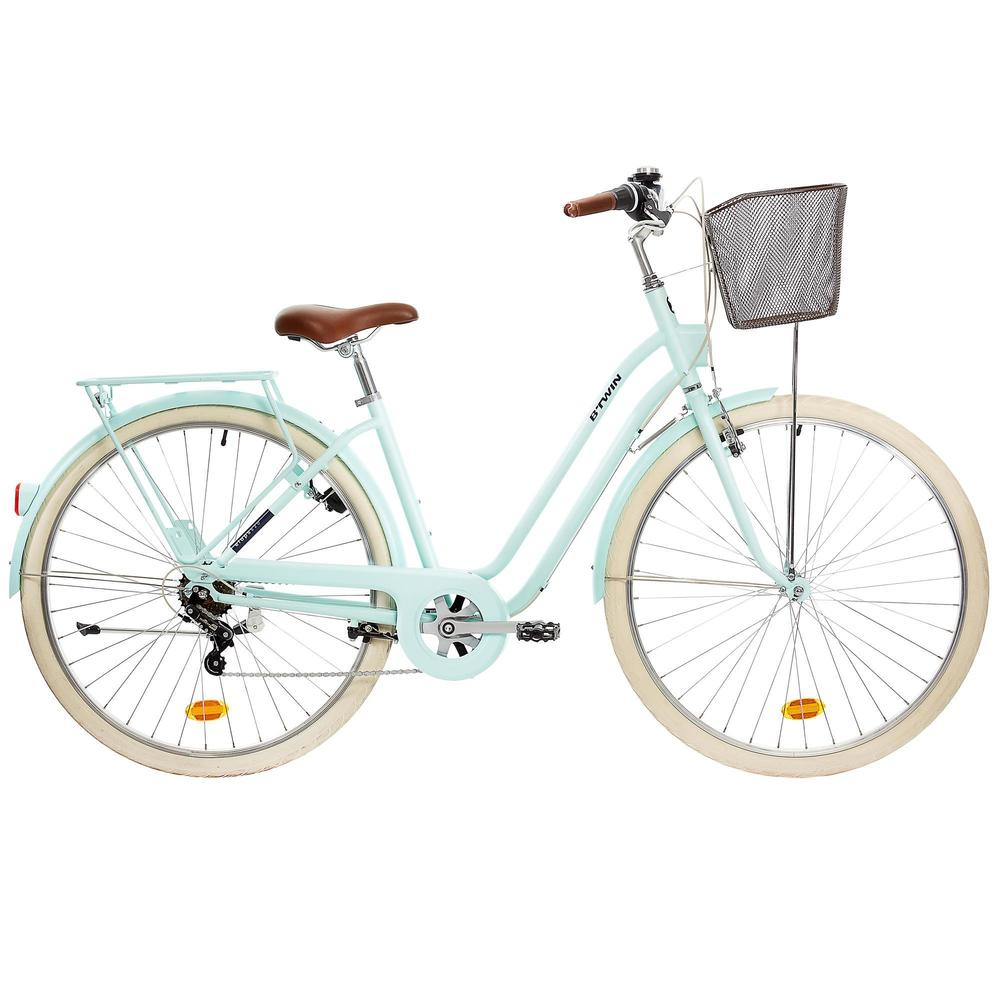UrbanBike: (16, 153, 997, 778)
